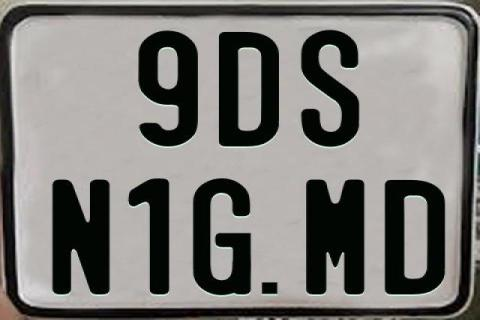0: (138, 29, 199, 149), (125, 177, 168, 297)
D: (216, 32, 280, 150), (382, 180, 446, 297)
G: (190, 178, 254, 294)
M: (305, 177, 366, 295)
N: (51, 179, 111, 299)
S: (301, 29, 362, 151)
